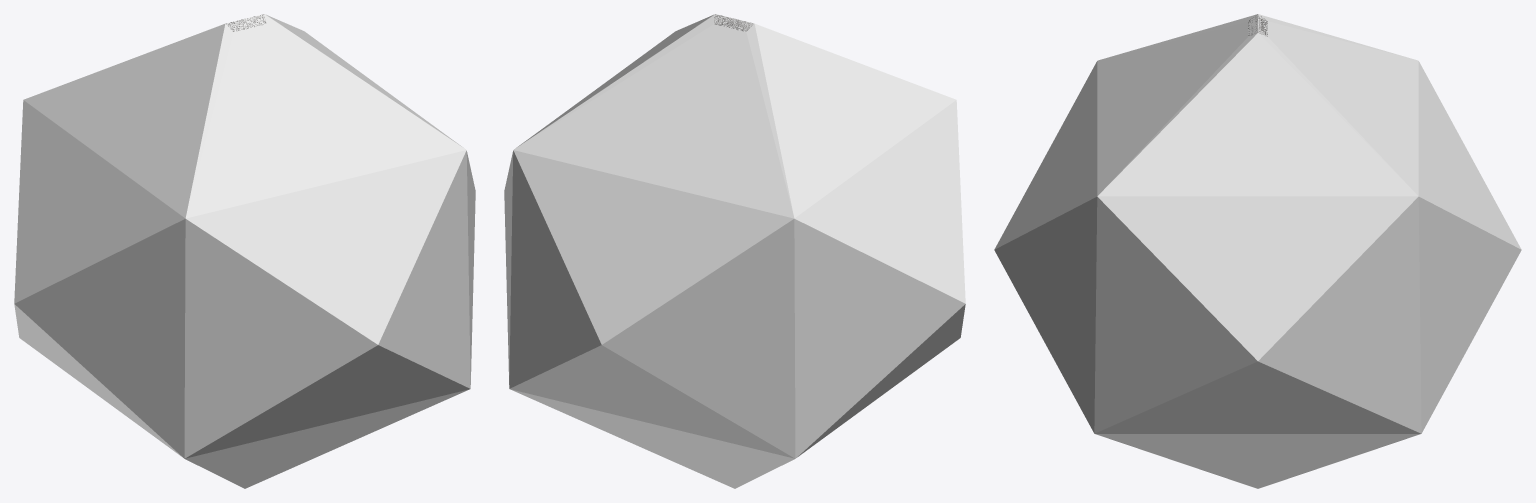
File: chain_weight.low.webp.glb
3 views of the same model, side by side, from view 1: azimuth 30°, elevation 25°; view 2: azimuth 150°, elevation 25°; view 3: azimuth 270°, elevation 25° (orthographic).
Visible parts, largest first — view 1: COL; view 2: COL; view 3: COL.
Boxes of the visible parts, <box> form: COL: <box>14,14,475,488</box>; COL: <box>504,14,965,488</box>; COL: <box>994,14,1521,488</box>.
Size of the model in its own units: 1 by 0.9736 by 1.
1 material, 1 textured.
